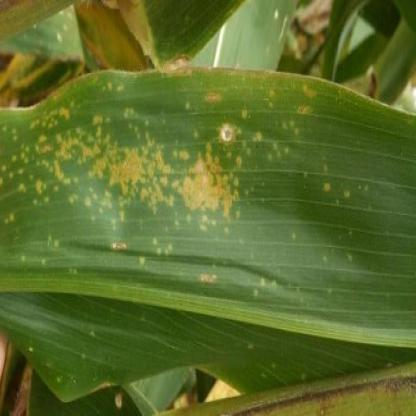corn rust leaf: (1, 50, 415, 406)
